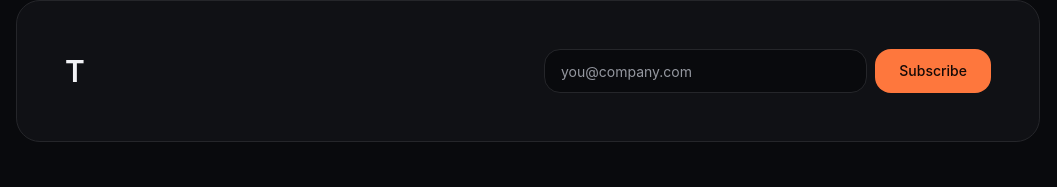
CtaEmailInline › flags an invalid email and does not call onSubmit
In the field named "Email address": (706, 71) [544,49,867,93], type "not-an-email"
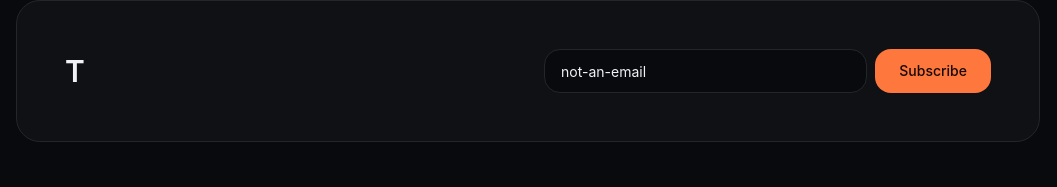
Click the button "Subscribe": (933, 71) [875,49,991,93]
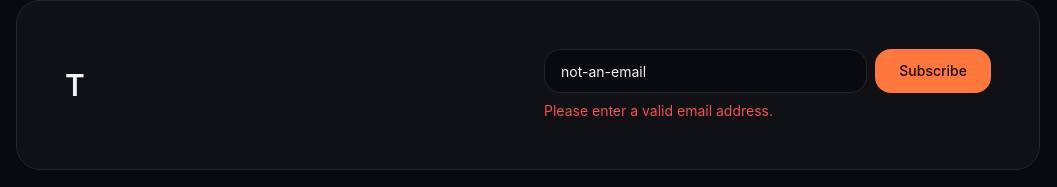
Now the message "Please enter a valid email address." is shown, box [544,102,773,119]
